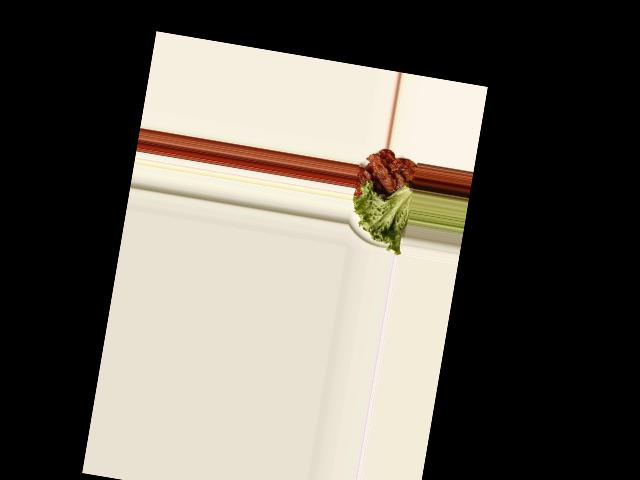lettuce: (347, 178, 414, 252)
